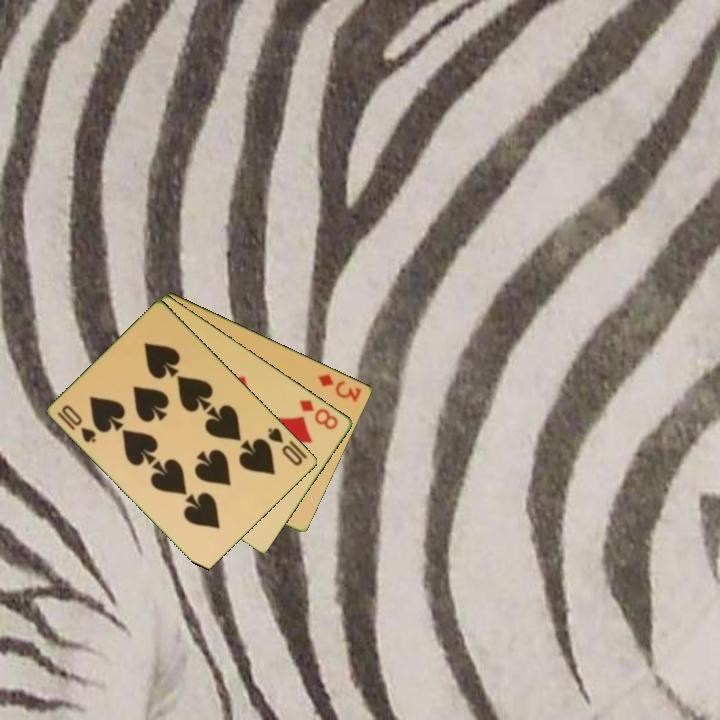10s: (54, 401, 99, 446), (264, 424, 306, 469)
3d: (314, 370, 365, 405)
8d: (296, 396, 341, 433)
